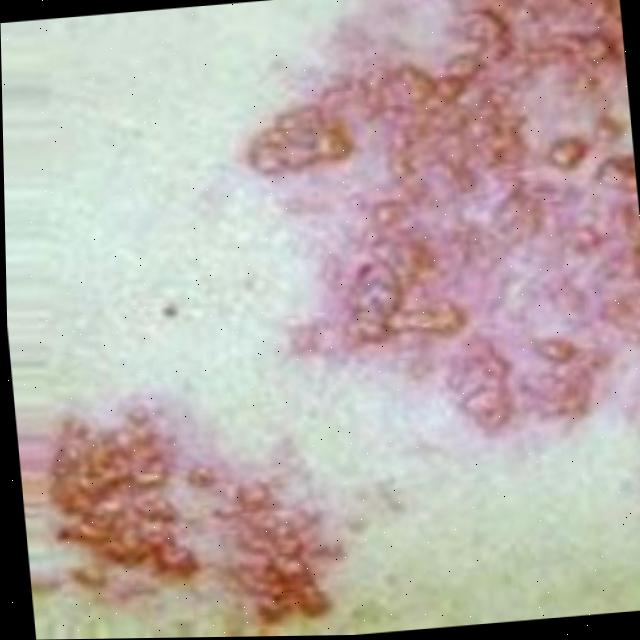Shingles: (235, 0, 640, 458), (39, 380, 339, 637)
